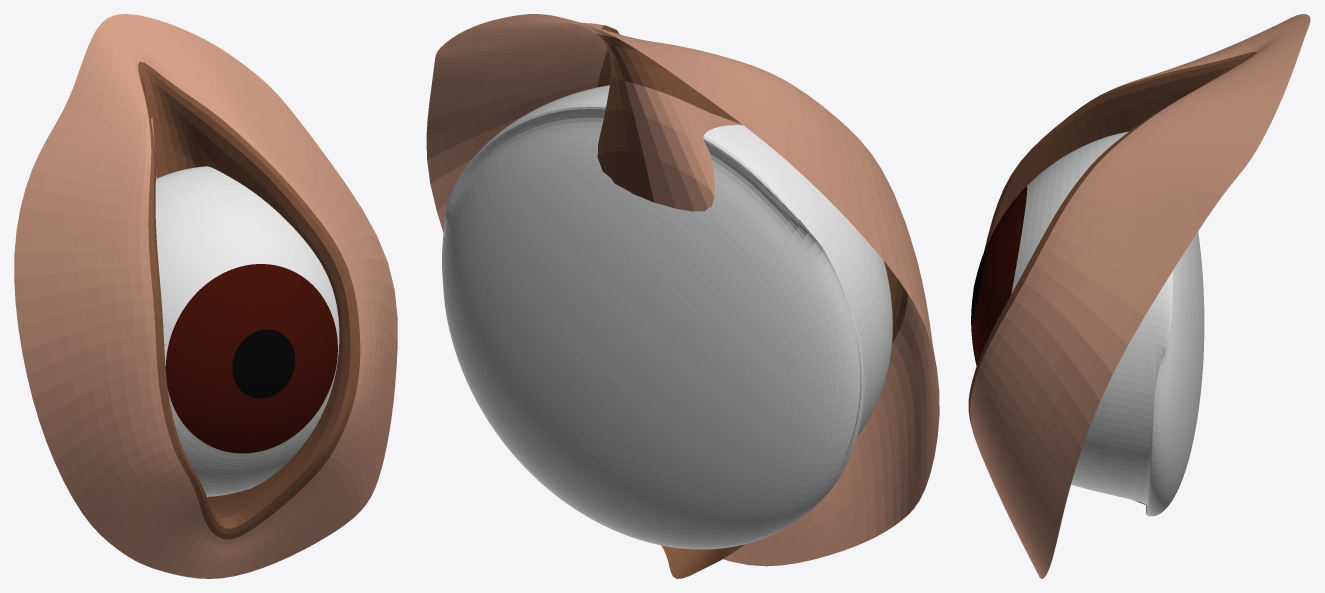
3 views of the same model, side by side, from view 1: azimuth 30°, elevation 25°; view 2: azimuth 150°, elevation 25°; view 3: azimuth 270°, elevation 25° (orthographic). The views are drawn at different scales.
Visible parts, largest first — view 1: Eyes_1; view 2: Eyes_1; view 3: Eyes_1.
Part boxes in pixels (x1,y1,x2,y2): Eyes_1: (14, 14, 397, 578); Eyes_1: (426, 14, 939, 578); Eyes_1: (968, 14, 1310, 578).
Size of the model in its own units: 0.144 by 0.1811 by 0.1061.
